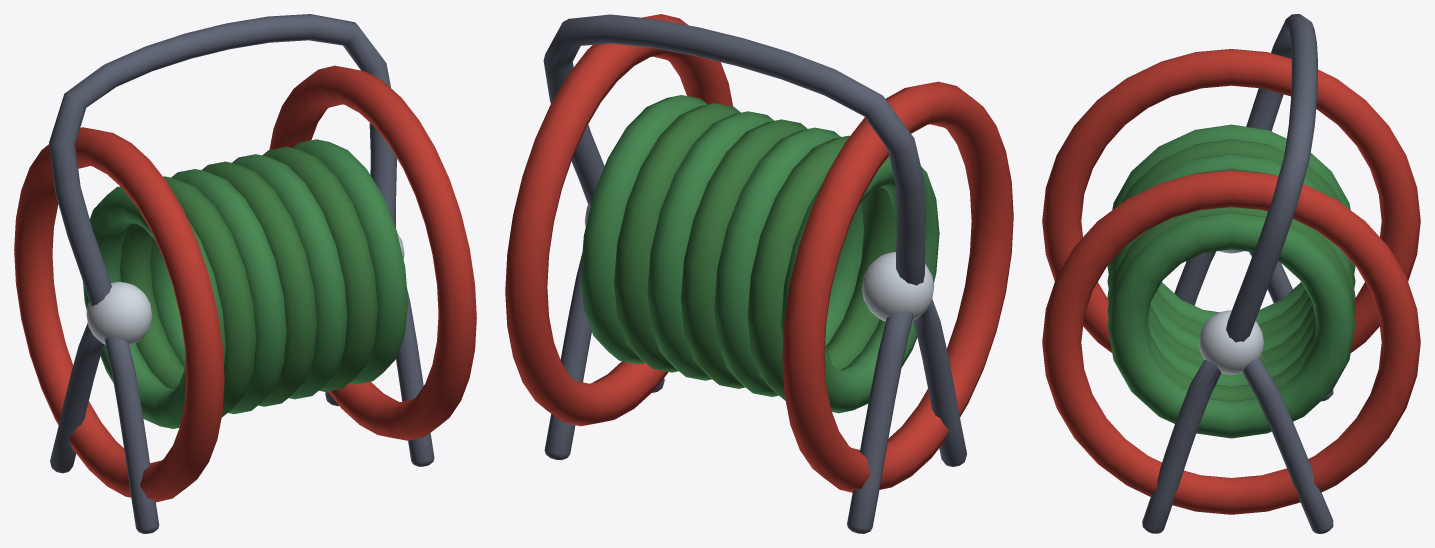
The model's file is schlauchtrommel.glb.
3 views of the same model, side by side, from view 1: azimuth 30°, elevation 25°; view 2: azimuth 150°, elevation 25°; view 3: azimuth 270°, elevation 25° (orthographic). The views are drawn at different scales.
Visible parts, largest first — view 1: schlauchtrommel-lack, schlauchtrommel-metall; view 2: schlauchtrommel-lack, schlauchtrommel-metall; view 3: schlauchtrommel-lack, schlauchtrommel-metall.
Boxes of the visible parts, left/top/right/bottom form: schlauchtrommel-lack: left=14, top=65, right=476, bottom=502; schlauchtrommel-metall: left=49, top=14, right=434, bottom=533; schlauchtrommel-lack: left=505, top=14, right=1013, bottom=492; schlauchtrommel-metall: left=543, top=14, right=966, bottom=533; schlauchtrommel-lack: left=1042, top=49, right=1420, bottom=514; schlauchtrommel-metall: left=1142, top=14, right=1333, bottom=533.
Size of the model in its own units: 0.5887 by 0.6903 by 0.58.
